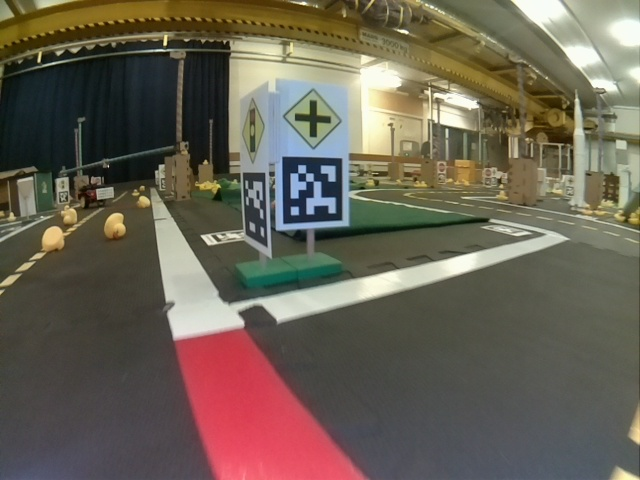Duckie: (104, 212, 125, 240), (42, 226, 62, 251), (64, 209, 77, 224), (138, 197, 150, 207), (614, 210, 624, 222), (497, 191, 506, 201), (8, 212, 17, 221)
Duckiebot: (77, 183, 115, 208)
Intersection sign: (285, 88, 341, 149)
QR code: (280, 158, 344, 222), (242, 173, 268, 247), (200, 231, 245, 245), (59, 190, 69, 202)
Signal sign: (241, 99, 266, 164)
